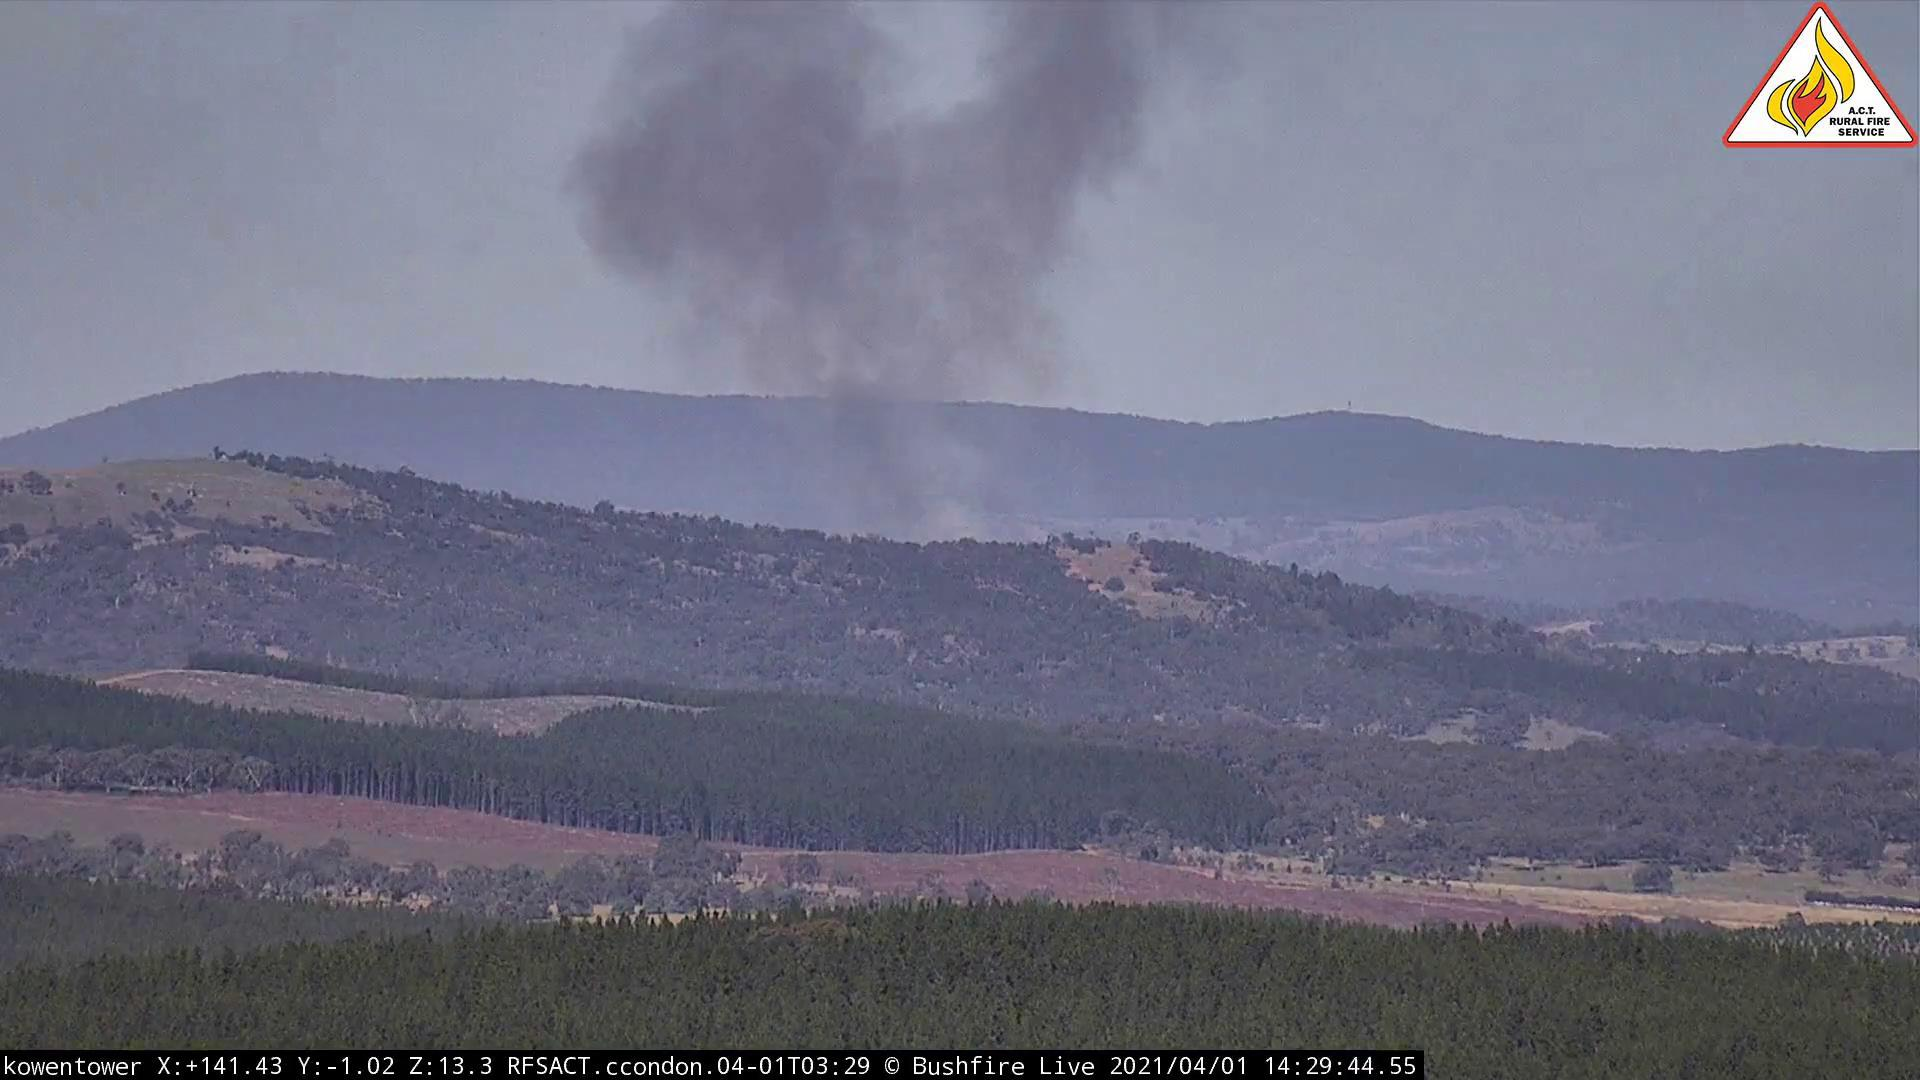Smoke: (539, 3, 1195, 546)
